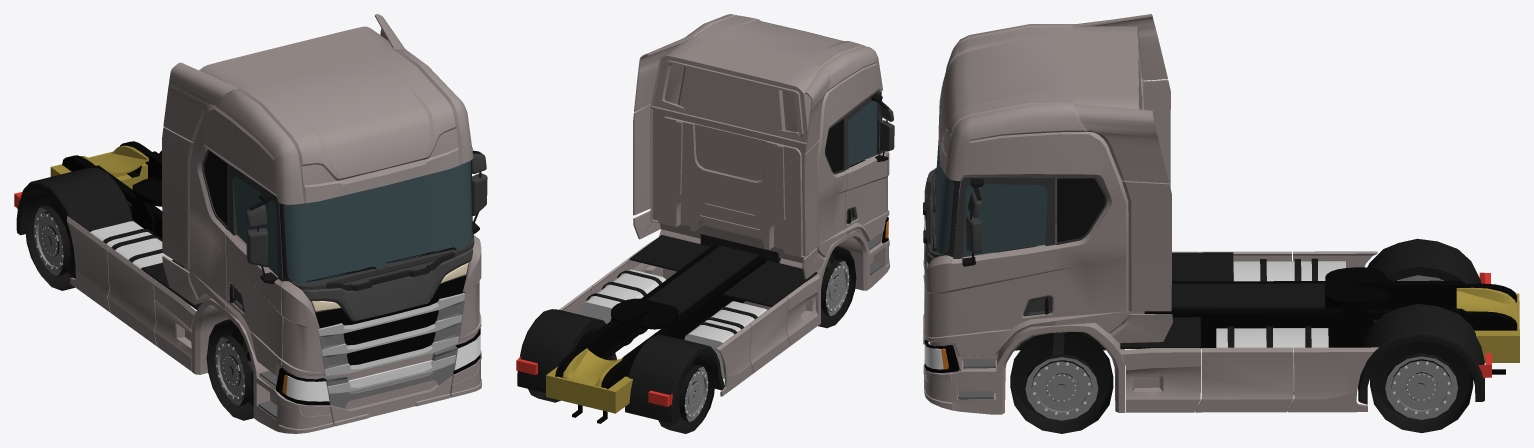
Rendered from scania.glb.
The picture shows the model from 3 angles, left to right: view 1: azimuth 30°, elevation 25°; view 2: azimuth 150°, elevation 25°; view 3: azimuth 270°, elevation 25°; orthographic projection. The views are drawn at different scales.
Parts seen in each view (by area): view 1: Body, Vert.022, Chassis, Chassis.004, Cube.008, Vert, Vert.011, Vert.012, Vert.017, Circle.001, Circle.028, Chassis.009 (+30 smaller); view 2: Body.007, Body, Plane.001, Chassis.004, Cube.010, Cube.008, Cube.007, Chassis.009, Vert.011, Chassis, Vert.012, Vert.017 (+14 smaller); view 3: Body, Chassis.004, Circle.011, Cube.010, Vert.011, Plane.001, Circle.020, Vert.017, Vert.012, Chassis, Cube.007, Cube.008 (+10 smaller).
Boxes of the visible parts, bbox=[...] form: Body: bbox=[184, 26, 481, 375]; Vert.022: bbox=[283, 160, 472, 284]; Chassis: bbox=[192, 298, 481, 433]; Chassis.004: bbox=[67, 216, 196, 371]; Cube.008: bbox=[16, 168, 132, 276]; Vert: bbox=[302, 248, 472, 321]; Vert.011: bbox=[162, 127, 193, 269]; Vert.012: bbox=[163, 14, 404, 141]; Vert.017: bbox=[228, 164, 283, 281]; Circle.001: bbox=[25, 192, 75, 290]; Circle.028: bbox=[206, 319, 253, 420]; Chassis.009: bbox=[50, 145, 148, 189]; Body.007: bbox=[650, 56, 808, 258]; Body: bbox=[660, 14, 889, 263]; Plane.001: bbox=[629, 235, 817, 315]; Chassis.004: bbox=[559, 239, 819, 396]; Cube.010: bbox=[555, 245, 765, 389]; Cube.008: bbox=[625, 334, 724, 423]; Cube.007: bbox=[517, 309, 616, 392]; Chassis.009: bbox=[546, 348, 632, 413]; Vert.011: bbox=[633, 104, 819, 256]; Chassis: bbox=[659, 218, 889, 325]; Vert.012: bbox=[634, 36, 831, 153]; Vert.017: bbox=[844, 90, 882, 170]; Body: bbox=[923, 24, 1144, 356]; Chassis.004: bbox=[1119, 251, 1378, 412]; Circle.011: bbox=[1010, 332, 1473, 433]; Cube.010: bbox=[1144, 280, 1517, 348]; Vert.011: bbox=[1122, 79, 1171, 311]; Plane.001: bbox=[1120, 252, 1325, 348]; Circle.020: bbox=[1025, 356, 1458, 420]; Vert.017: bbox=[953, 177, 1055, 258]; Vert.012: bbox=[1072, 14, 1169, 182]; Chassis: bbox=[923, 233, 1125, 414]; Cube.007: bbox=[1358, 304, 1484, 404]; Cube.008: bbox=[1367, 238, 1481, 283].
Bounding box in the file's own units: 0.0539 × 0.0697 × 0.1157.
